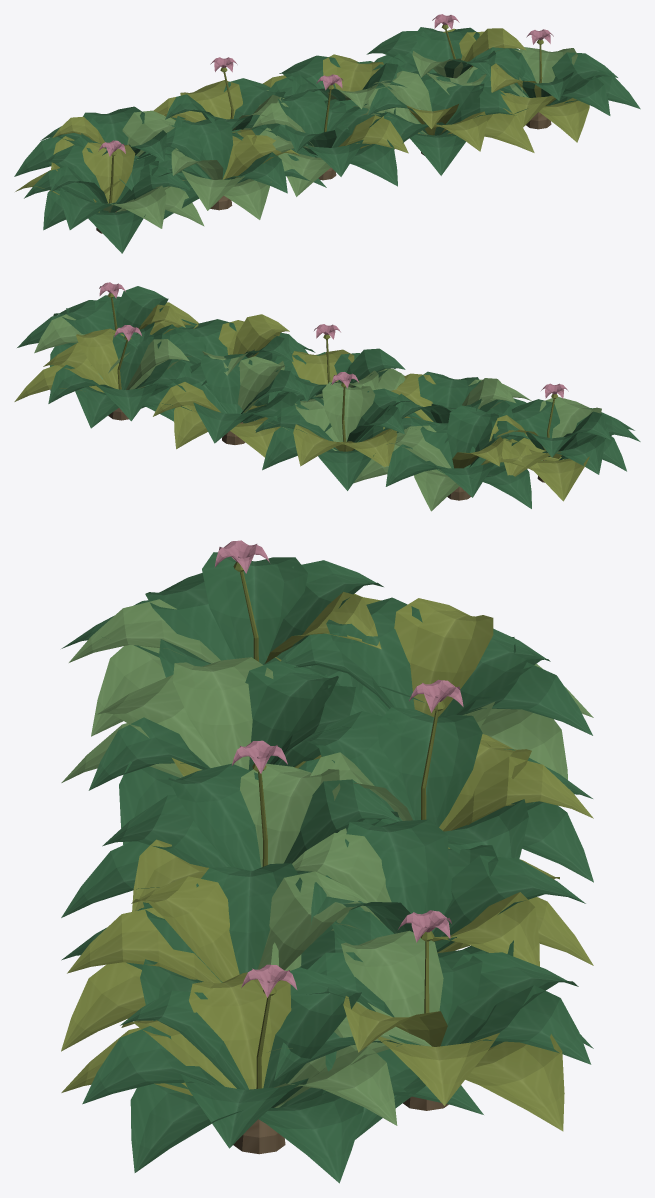
File: AST-BOT-003_pool_basal_01.glb
The picture shows the model from 3 angles, top to bottom: view 1: azimuth 30°, elevation 25°; view 2: azimuth 150°, elevation 25°; view 3: azimuth 270°, elevation 25°; orthographic projection. The views are drawn at different scales.
Parts seen in each view (by area): view 1: RT_AST-BOT-003_pool_basal_01__leaf_jade, RT_AST-BOT-003_pool_basal_01__leaf_olive, RT_AST-BOT-003_pool_basal_01__leaf_sage, RT_AST-BOT-003_pool_basal_01__flower, RT_AST-BOT-003_pool_basal_01__bark; view 2: RT_AST-BOT-003_pool_basal_01__leaf_jade, RT_AST-BOT-003_pool_basal_01__leaf_olive, RT_AST-BOT-003_pool_basal_01__leaf_sage, RT_AST-BOT-003_pool_basal_01__flower, RT_AST-BOT-003_pool_basal_01__bark; view 3: RT_AST-BOT-003_pool_basal_01__leaf_jade, RT_AST-BOT-003_pool_basal_01__leaf_olive, RT_AST-BOT-003_pool_basal_01__leaf_sage, RT_AST-BOT-003_pool_basal_01__flower, RT_AST-BOT-003_pool_basal_01__bark.
Part boxes in pixels (x1,y1,x2,y2): RT_AST-BOT-003_pool_basal_01__leaf_jade: (14,27,640,253); RT_AST-BOT-003_pool_basal_01__leaf_olive: (15,24,589,212); RT_AST-BOT-003_pool_basal_01__leaf_sage: (103,47,577,228); RT_AST-BOT-003_pool_basal_01__flower: (98,14,553,156); RT_AST-BOT-003_pool_basal_01__bark: (96,112,551,233); RT_AST-BOT-003_pool_basal_01__leaf_jade: (17,286,640,508); RT_AST-BOT-003_pool_basal_01__leaf_olive: (14,293,589,501); RT_AST-BOT-003_pool_basal_01__leaf_sage: (34,314,601,511); RT_AST-BOT-003_pool_basal_01__flower: (99,282,568,398); RT_AST-BOT-003_pool_basal_01__bark: (108,408,544,500); RT_AST-BOT-003_pool_basal_01__leaf_jade: (61,552,593,1183); RT_AST-BOT-003_pool_basal_01__leaf_olive: (61,561,593,1131); RT_AST-BOT-003_pool_basal_01__leaf_sage: (61,599,593,1125); RT_AST-BOT-003_pool_basal_01__flower: (214,540,463,997); RT_AST-BOT-003_pool_basal_01__bark: (233,1096,448,1154).
Size of the model in its own units: 2.17 by 0.3414 by 0.86.
5 materials, 5 textured.
